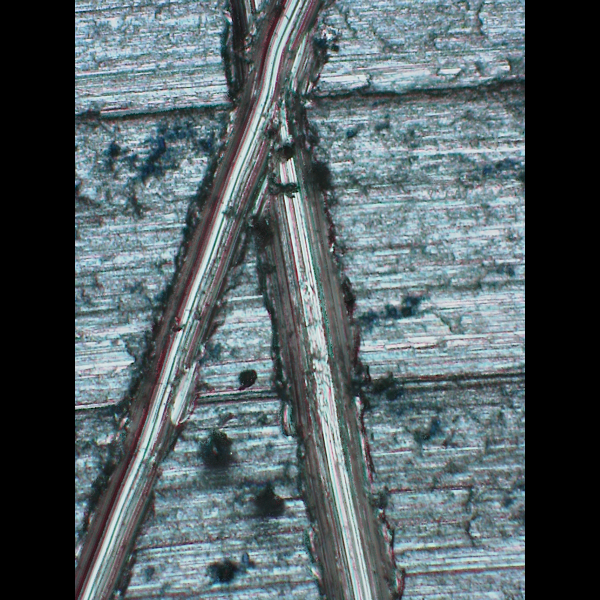d: (75, 0, 416, 597)
